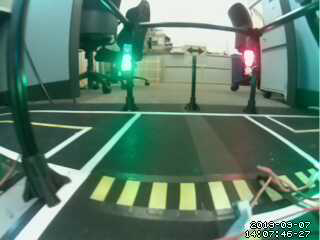Left_Right_sign: (181, 42, 212, 59)
Traffic_light_green: (119, 42, 131, 73)
Traffic_light_red: (243, 49, 255, 77)
